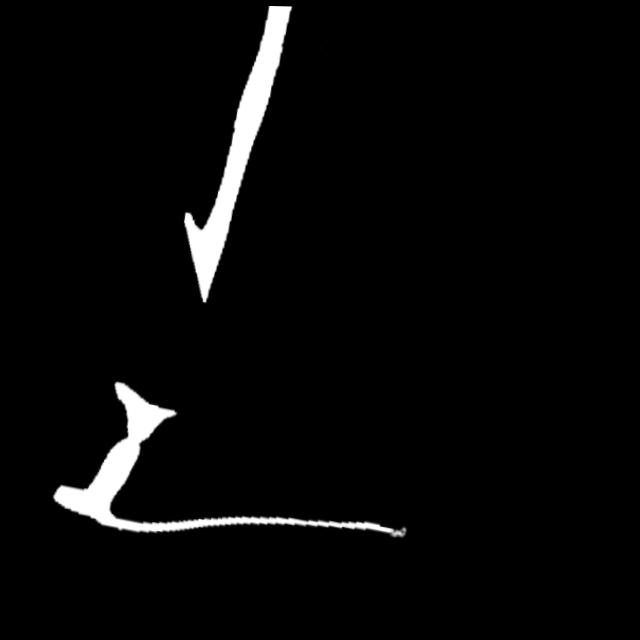stp: (381, 519, 406, 542)
